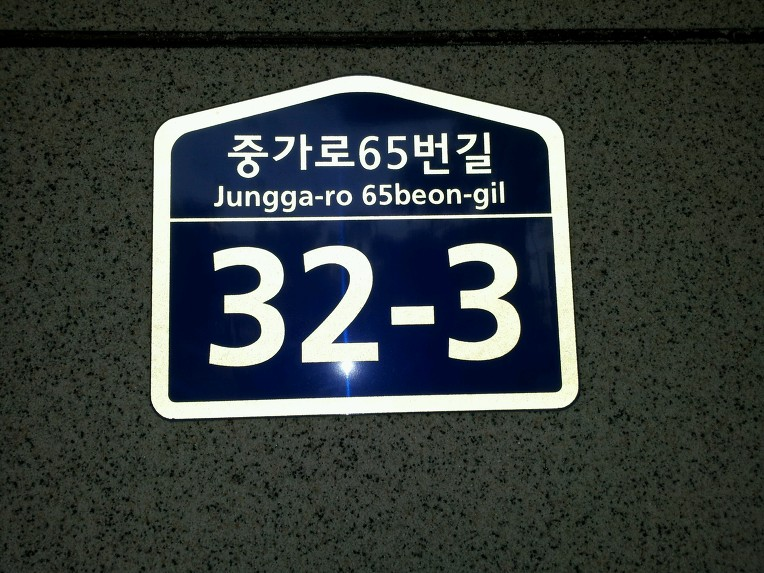building_license_plate1: (151, 75, 580, 423)
